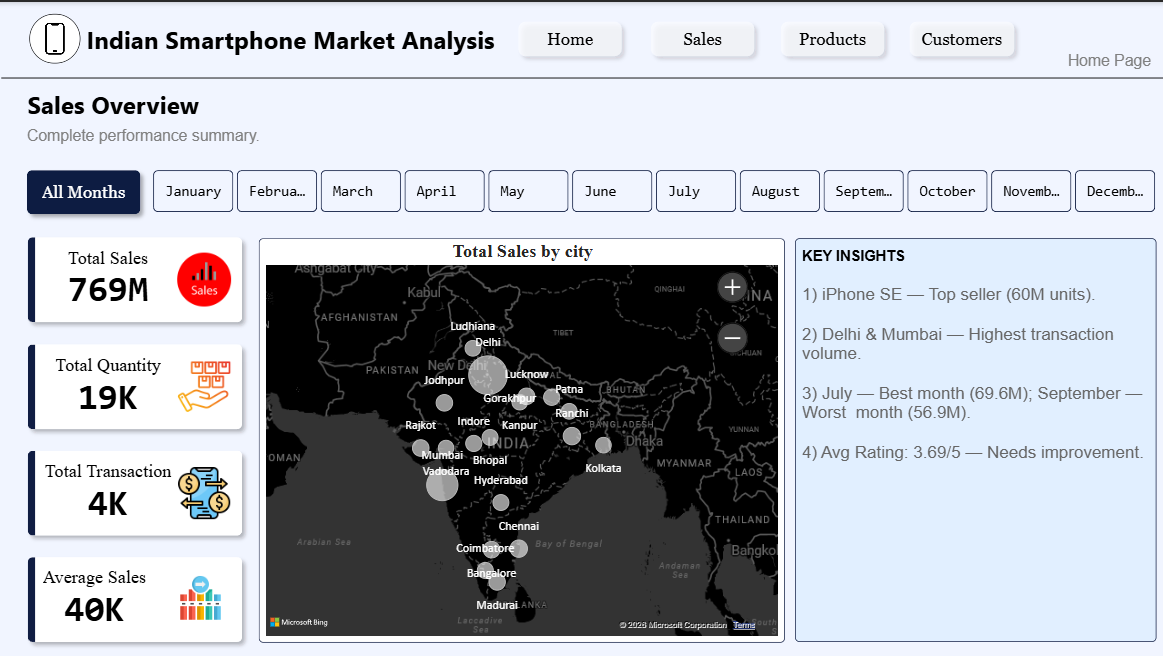

The dashboard page shown, as its layout file describes it:
{"tool":"powerbi","page":{"name":"Page 1","canvas":[1280,720],"ordinal":0},"visuals":[{"type":"cardVisual","fields":{"Data":["Mobile_Sales_Data.Total_Sales","Mobile_Sales_Data.Total Quantity","Mobile_Sales_Data.Total_Transaction","Mobile_Sales_Data.Average"]},"box":[13.5,241.5,269.9,478.5],"z":0},{"type":"shape","box":[93.3,15.1,451.5,50.8],"z":1000},{"type":"actionButton","box":[560.2,12.3,131.7,56.3],"z":2000},{"type":"actionButton","box":[705.7,12.3,131.7,56.3],"z":3000},{"type":"actionButton","box":[848.4,12.3,131.7,56.3],"z":4000},{"type":"actionButton","box":[989.7,12.3,133.1,56.3],"z":5000},{"type":"shape","box":[27,90.8,193.9,42.9],"z":6000},{"type":"shape","box":[25.8,133.7,262.6,28.2],"z":7000},{"type":"shape","box":[20.9,175.5,142.3,66.3],"z":8000},{"type":"shape","box":[1.2,74.8,1278.5,16],"z":9000},{"type":"map","title":"Total Sales by city","fields":{"Category":["Mobile_Sales_Data.City"],"Size":["Mobile_Sales_Data.Total_Sales"]},"box":[283.4,258.9,577.9,444.2],"z":10000},{"type":"textbox","box":[872.7,259.3,396.6,443.2],"z":11000},{"type":"shape","box":[1164.4,50.3,105.5,28.2],"z":12000},{"type":"advancedSlicerVisual","fields":{"Values":["Mobile_Sales_Data.Date.Variation.Date Hierarchy.Month"]},"box":[163.2,180.4,1116.6,56.4],"z":13000},{"type":"image","box":[27.4,8.2,65.9,64.5],"z":14000}]}

Visuals, with their boxes in screenshot pixels (x1, y1, x2, y2), scaled from the page's 1280x720 canvas onto the 1163x656 screenshot:
cardVisual - Mobile_Sales_Data.Total_Sales x Mobile_Sales_Data.Total Quantity: <region>12, 220, 257, 655</region>
shape: <region>85, 14, 495, 60</region>
actionButton: <region>509, 11, 629, 63</region>
actionButton: <region>641, 11, 761, 63</region>
actionButton: <region>771, 11, 891, 63</region>
actionButton: <region>899, 11, 1020, 63</region>
shape: <region>25, 83, 201, 122</region>
shape: <region>23, 122, 262, 148</region>
shape: <region>19, 160, 148, 220</region>
shape: <region>1, 68, 1162, 83</region>
"Total Sales by city" map: <region>257, 236, 783, 641</region>
textbox: <region>793, 236, 1153, 640</region>
shape: <region>1058, 46, 1154, 72</region>
advancedSlicerVisual - Mobile_Sales_Data.Date.Variation.Date Hierarchy.Month: <region>148, 164, 1162, 216</region>
image: <region>25, 7, 85, 66</region>
